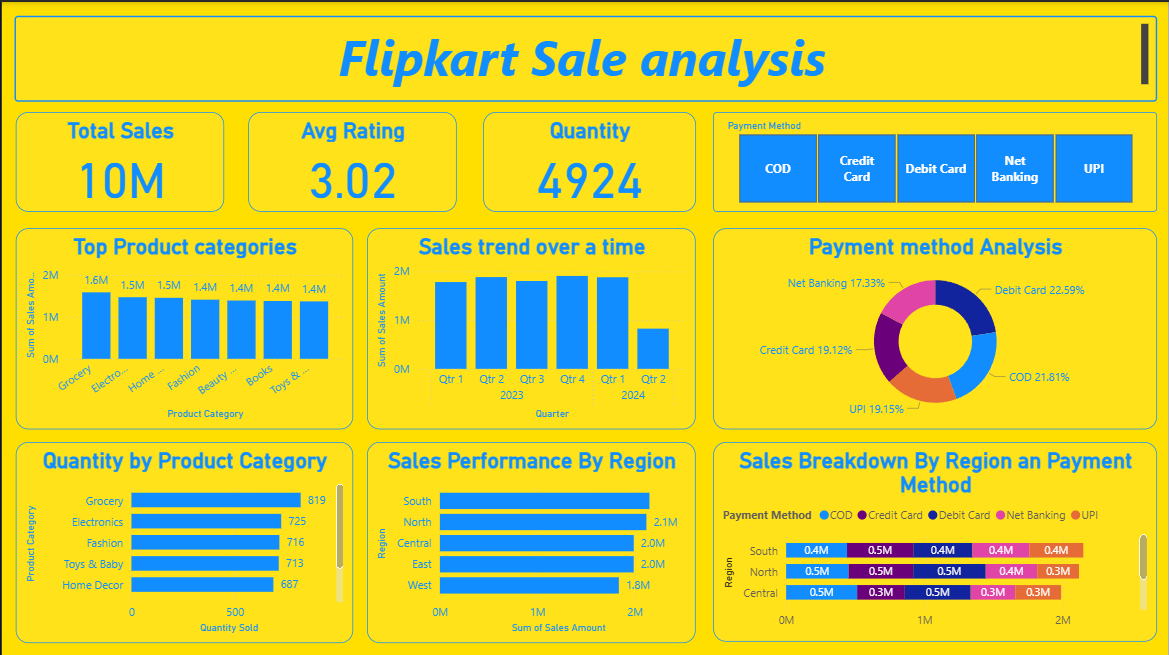

This screenshot's page, from the dashboard's own definition file:
{"tool":"powerbi","page":{"name":"Sales_Dashboard","canvas":[1280,720],"ordinal":0},"visuals":[{"type":"card","title":"Total Sales","fields":{"Values":["Sum(Sheet1.Sales Amount)"]},"box":[15.1,120.8,229.2,109.8],"z":0},{"type":"card","title":"Avg Rating","fields":{"Values":["Avg(Sheet1.Customer Rating)"]},"box":[270.3,120.8,229.2,109.8],"z":2000},{"type":"card","title":"Quantity","fields":{"Values":["Sum(Sheet1.Quantity Sold)"]},"box":[528.3,120.8,233.3,109.8],"z":3000},{"type":"columnChart","title":"Top Product categories","fields":{"Category":["Sheet1.Product Category"],"Y":["Sum(Sheet1.Sales Amount)"]},"box":[15.1,248.4,370.5,220.9],"z":5000},{"type":"columnChart","title":"Sales trend over a time","fields":{"Category":["Sheet1.Order Date.Variation.Date Hierarchy.Year","Sheet1.Order Date.Variation.Date Hierarchy.Quarter","Sheet1.Order Date.Variation.Date Hierarchy.Month","Sheet1.Order Date.Variation.Date Hierarchy.Day"],"Y":["Sum(Sheet1.Sales Amount)"]},"box":[400.7,248.4,360.9,220.9],"z":6000},{"type":"donutChart","title":"Payment method Analysis","fields":{"Category":["Sheet1.Payment Method"],"Y":["Sum(Sheet1.Sales Amount)"]},"box":[780.8,248.4,487.1,220.9],"z":7000},{"type":"clusteredBarChart","title":"Quantity by Product Category","fields":{"Category":["Sheet1.Product Category"],"Y":["Sum(Sheet1.Quantity Sold)"]},"box":[15.1,483,370.5,220.9],"z":8000},{"type":"clusteredBarChart","title":"Sales Performance By Region","fields":{"Category":["Sheet1.Region"],"Y":["Sum(Sheet1.Sales Amount)"]},"box":[400.7,483,360.9,220.9],"z":9000},{"type":"barChart","title":"Sales Breakdown By Region an Payment Method","fields":{"Category":["Sheet1.Region"],"Y":["Sum(Sheet1.Sales Amount)"],"Series":["Sheet1.Payment Method"]},"box":[780.8,483,487.1,219.6],"z":10000},{"type":"slicer","fields":{"Values":["Sheet1.Payment Method"]},"box":[780.8,120.8,487.1,109.8],"z":11000},{"type":"textbox","box":[13.7,15.1,1254.2,94.7],"z":12000}]}

Visuals, with their boxes in screenshot pixels (x1, y1, x2, y2), scaled from the page's 1280x720 canvas onto the 1169x655 screenshot:
"Total Sales" card: box=[14, 110, 223, 210]
"Avg Rating" card: box=[247, 110, 456, 210]
"Quantity" card: box=[482, 110, 696, 210]
"Top Product categories" columnChart: box=[14, 226, 352, 427]
"Sales trend over a time" columnChart: box=[366, 226, 696, 427]
"Payment method Analysis" donutChart: box=[713, 226, 1158, 427]
"Quantity by Product Category" clusteredBarChart: box=[14, 439, 352, 640]
"Sales Performance By Region" clusteredBarChart: box=[366, 439, 696, 640]
"Sales Breakdown By Region an Payment Method" barChart: box=[713, 439, 1158, 639]
slicer - Sheet1.Payment Method: box=[713, 110, 1158, 210]
textbox: box=[13, 14, 1158, 100]
